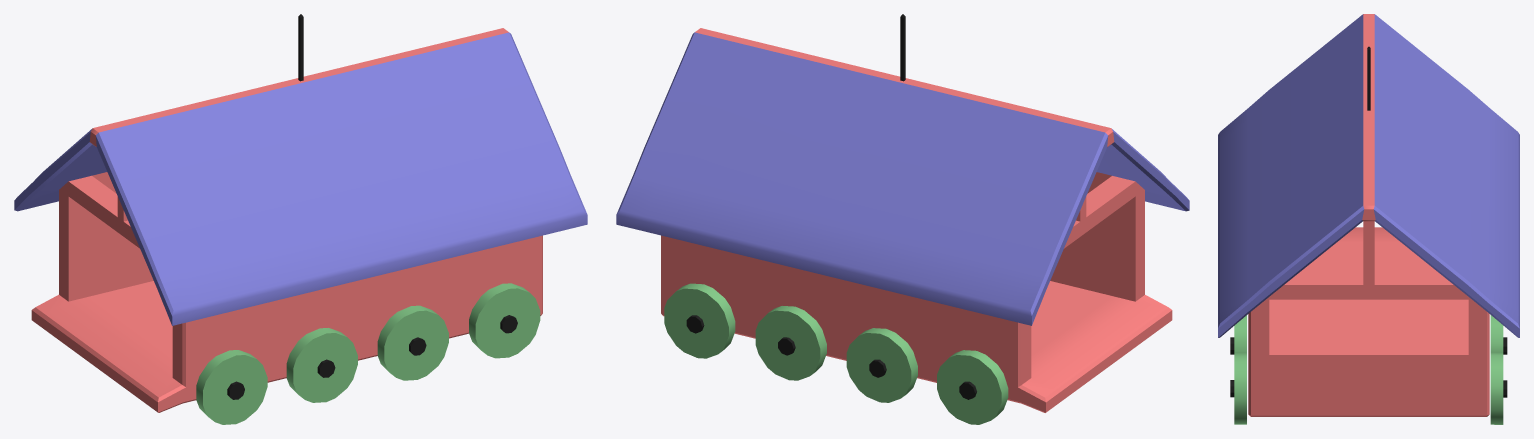
The model's file is Belier.fbx.
The picture shows the model from 3 angles, left to right: view 1: azimuth 30°, elevation 25°; view 2: azimuth 150°, elevation 25°; view 3: azimuth 270°, elevation 25°; orthographic projection. The views are drawn at different scales.
Visible parts, largest first — view 1: Belier; view 2: Belier; view 3: Belier.
Boxes of the visible parts, x1,y1,x2,y2 form: Belier: [14, 14, 587, 424]; Belier: [616, 14, 1189, 424]; Belier: [1218, 14, 1519, 424].
Bounding box in the file's own units: 13.68 × 10.24 × 9.
